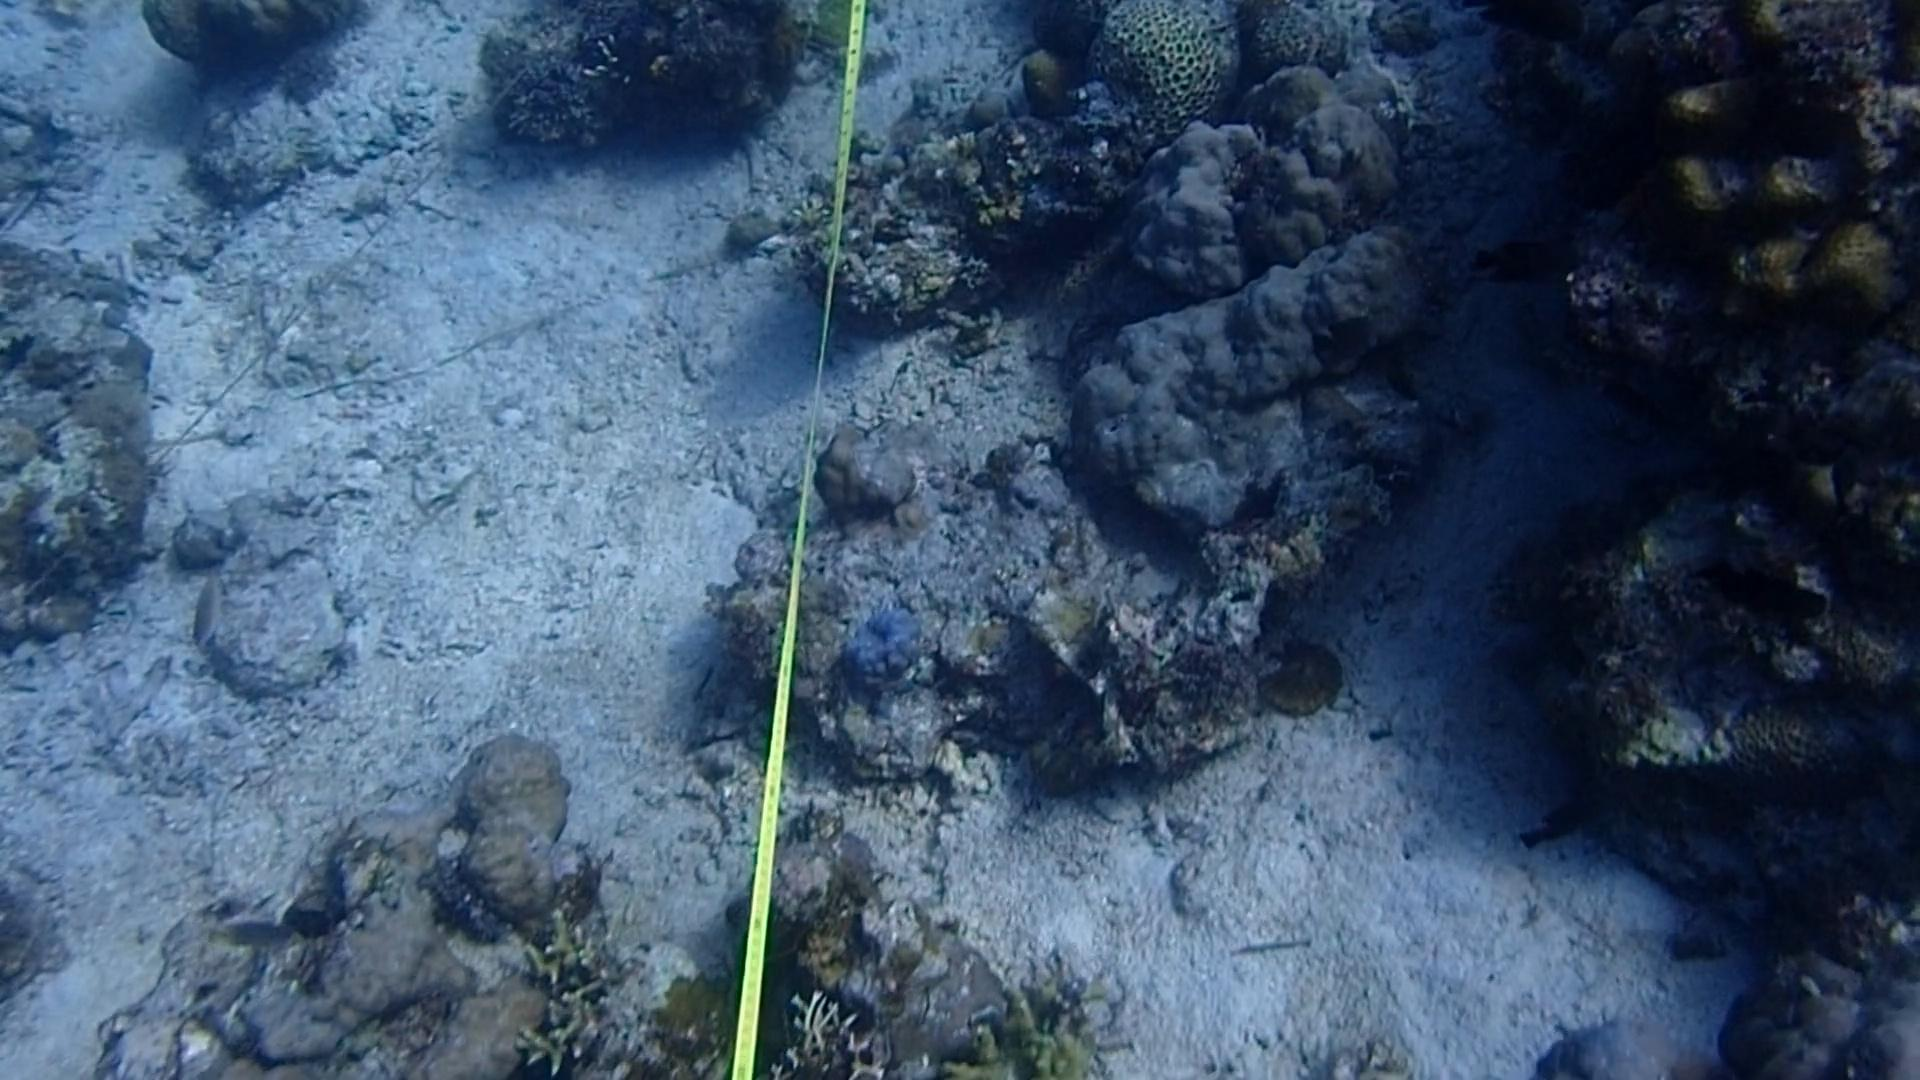Dark Fish: (1506, 764, 1635, 876), (1714, 78, 1840, 171), (1692, 555, 1834, 632), (1290, 303, 1385, 394), (1466, 228, 1572, 310)
Light Fish: (185, 571, 232, 651)
